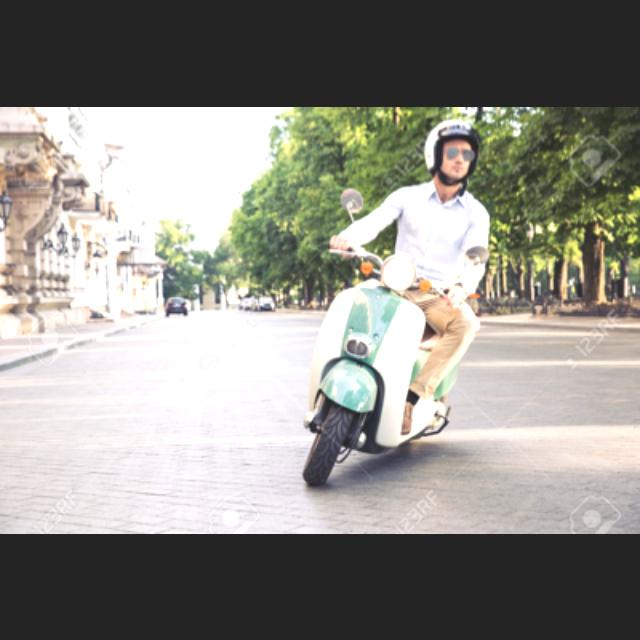With Helmet: (419, 116, 483, 186)
